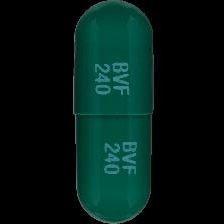33261-829: (0, 0, 224, 224)
